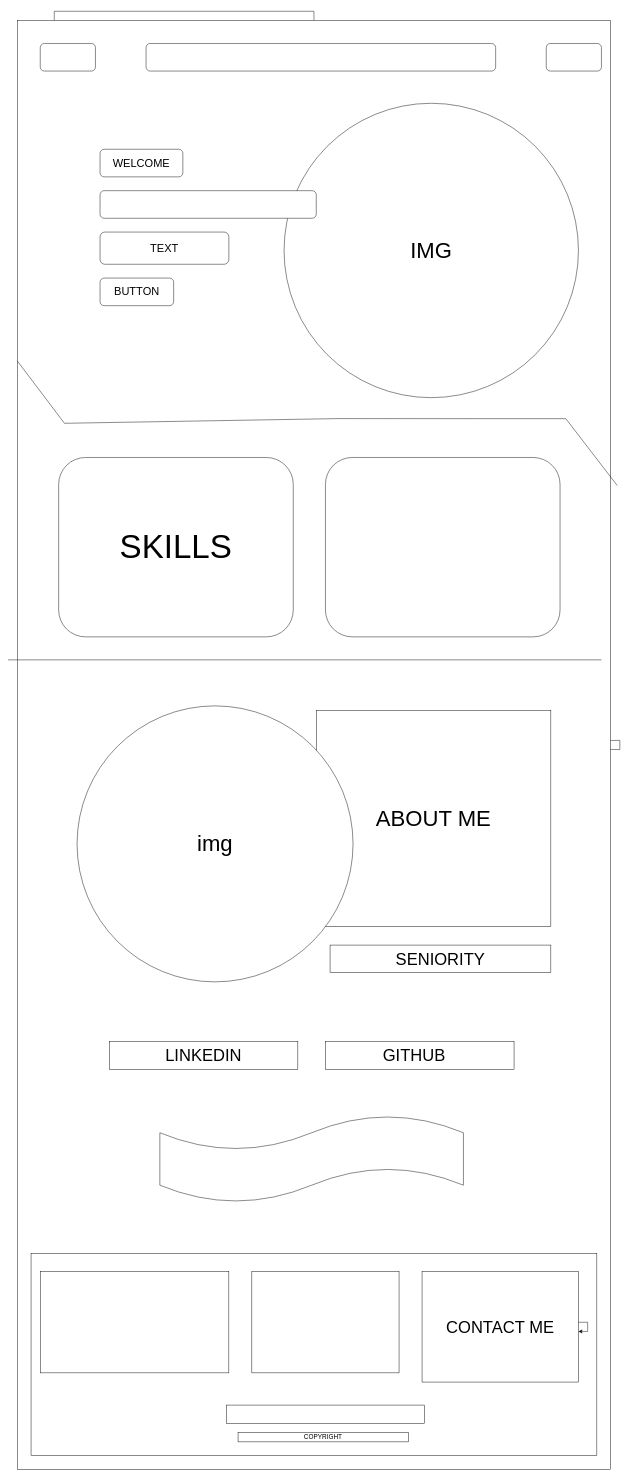
The diagram is 628 pixels wide and 1478 high, and some of its shapes have lost their labels. The shapes that lost their labels are listed below. From the top down, each one's box as (x1, y1, x2, y2) in pixels, then its label:
(100, 190, 316, 218): WHO AM I
(325, 457, 560, 637): SOFT SKILLS
(159, 1115, 463, 1203): FRASE
(40, 1271, 229, 1373): UBICACION
(251, 1271, 399, 1373): NAVS
(226, 1405, 424, 1423): PRIVACY POLICY
